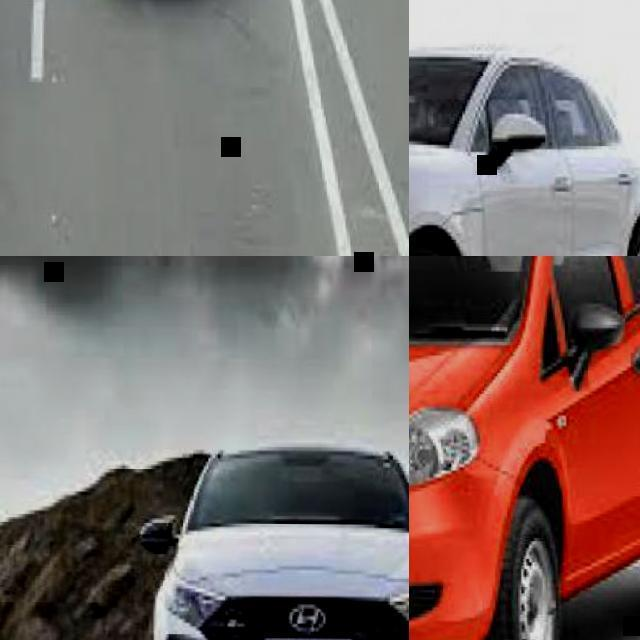car: (406, 0, 639, 251), (148, 440, 409, 639)
